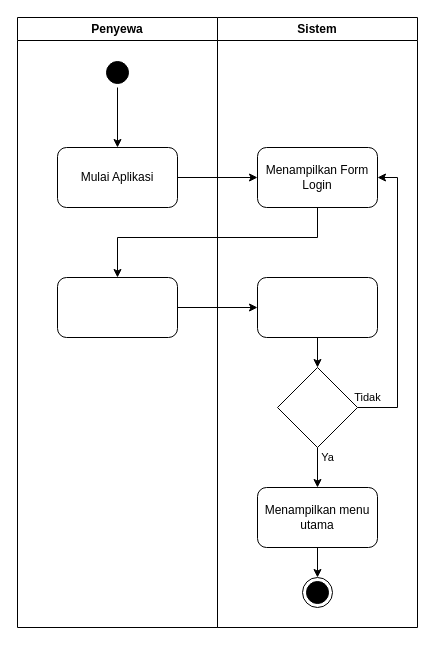
Some shapes in this 435 by 645 pixel diagram are drawn without their labels. Each missing label, with the centre of its shape:
Jika Benar: the point at 317,407
Melakukan input username dan password: the point at 117,307
Mengecek username dan password: the point at 317,307
